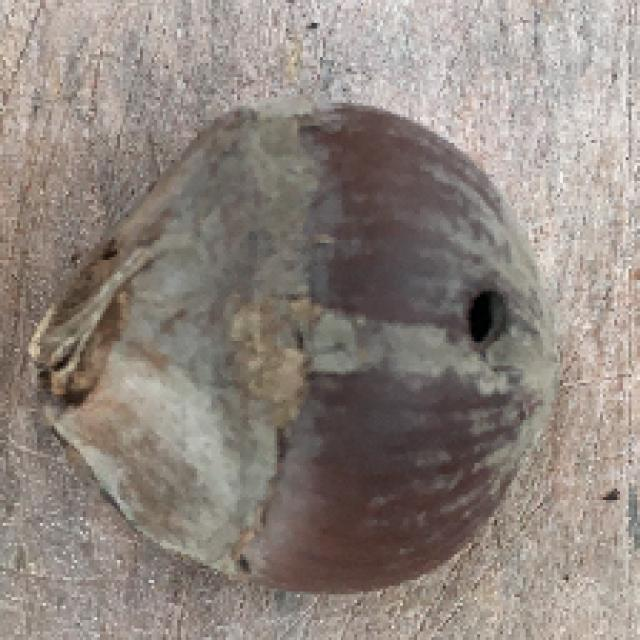DamagedHazelnut: (17, 102, 557, 593)
